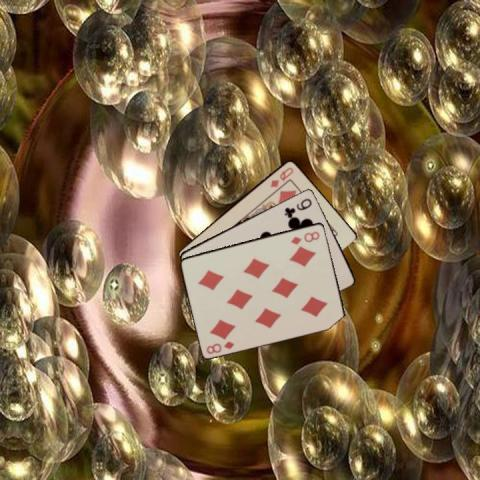8d: (288, 228, 321, 245), (203, 338, 236, 355)
9c: (282, 196, 314, 218)
Qd: (268, 164, 296, 189)
